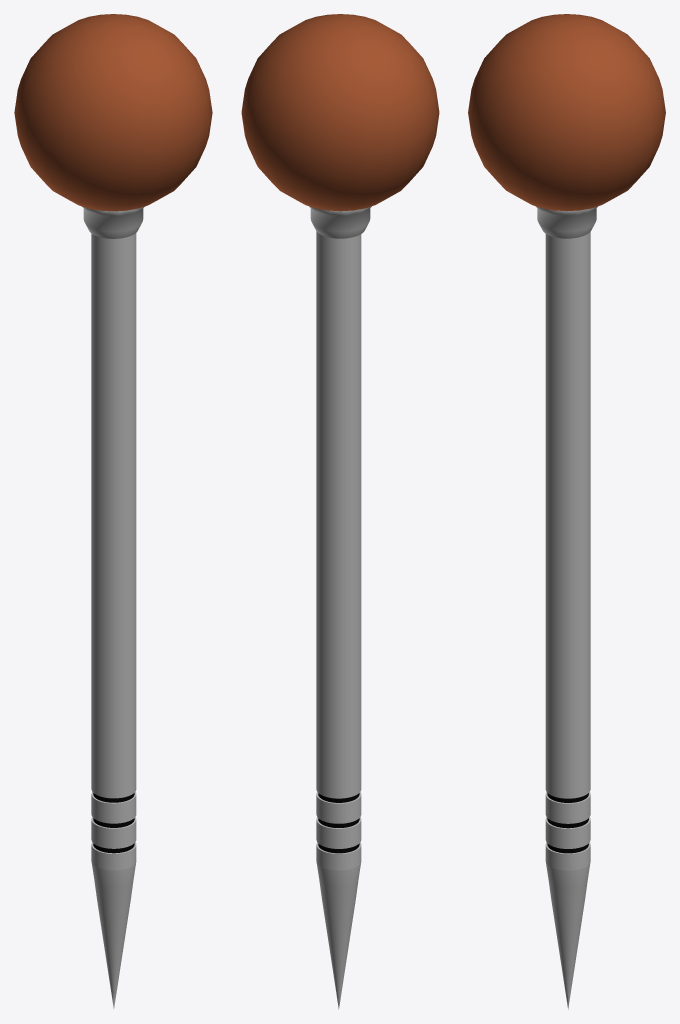
File: SIENNA.glb
3 views of the same model, side by side, from view 1: azimuth 30°, elevation 25°; view 2: azimuth 150°, elevation 25°; view 3: azimuth 270°, elevation 25° (orthographic).
Parts seen in each view (by area): view 1: Needle, Sphere, Ball_Holder; view 2: Needle, Sphere, Ball_Holder; view 3: Needle, Sphere, Ball_Holder.
Boxes of the visible parts, x1,y1,x2,y2 form: Needle: [91, 233, 136, 1008]; Sphere: [14, 14, 212, 211]; Ball_Holder: [82, 206, 144, 238]; Needle: [316, 231, 361, 1009]; Sphere: [241, 14, 439, 211]; Ball_Holder: [309, 206, 371, 238]; Needle: [545, 232, 590, 1009]; Sphere: [468, 14, 665, 211]; Ball_Holder: [536, 206, 597, 238].
Bounding box in the file's own units: 2.2 × 12.1 × 2.2.
